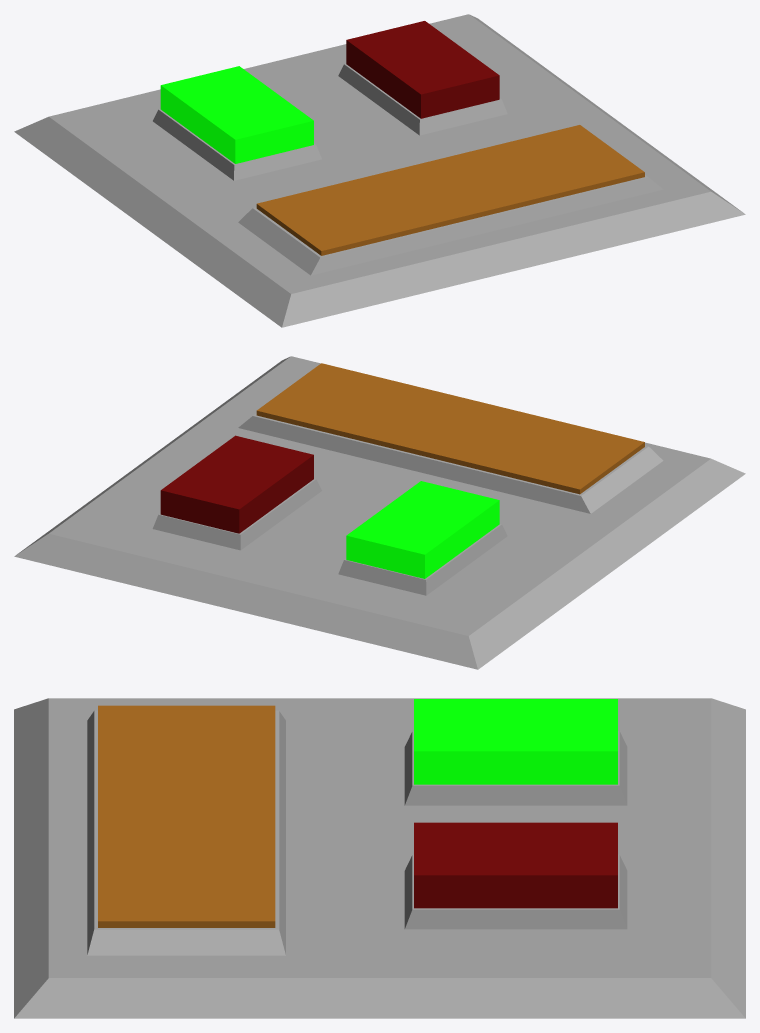
The model's file is иге)млд.fbx.
3 views of the same model, one above another, from view 1: azimuth 30°, elevation 25°; view 2: azimuth 150°, elevation 25°; view 3: azimuth 270°, elevation 25° (orthographic). The views are drawn at different scales.
Parts seen in each view (by area): view 1: Plane.016, Plane.018, Plane.019, Plane.017; view 2: Plane.016, Plane.018, Plane.019, Plane.017; view 3: Plane.016, Plane.018, Plane.019, Plane.017.
Boxes of the visible parts, box(x1,y1,x2,y2) form: Plane.016: box(14, 14, 745, 327); Plane.018: box(153, 21, 507, 180); Plane.019: box(256, 125, 644, 255); Plane.017: box(238, 175, 662, 275); Plane.016: box(14, 356, 745, 669); Plane.018: box(152, 435, 507, 595); Plane.019: box(256, 363, 644, 494); Plane.017: box(238, 413, 663, 513); Plane.016: box(14, 698, 745, 1018); Plane.018: box(404, 699, 627, 929); Plane.019: box(98, 705, 275, 927); Plane.017: box(87, 710, 285, 955).
Size of the model in its own units: 200 by 23.22 by 200.
